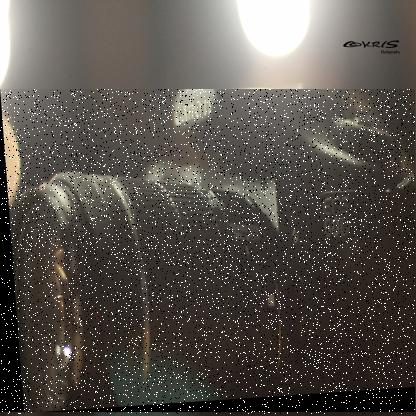Camera: (1, 91, 416, 416)
